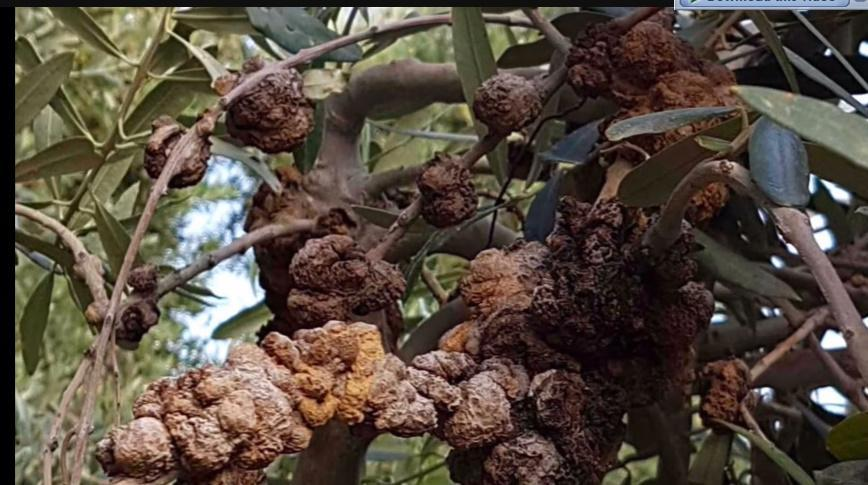Tuberculosis: (93, 313, 399, 485), (473, 212, 708, 390), (393, 303, 620, 480), (565, 22, 760, 122), (276, 222, 424, 315), (211, 64, 334, 157), (401, 148, 489, 228), (465, 69, 563, 134), (145, 106, 217, 192), (109, 257, 165, 348)
